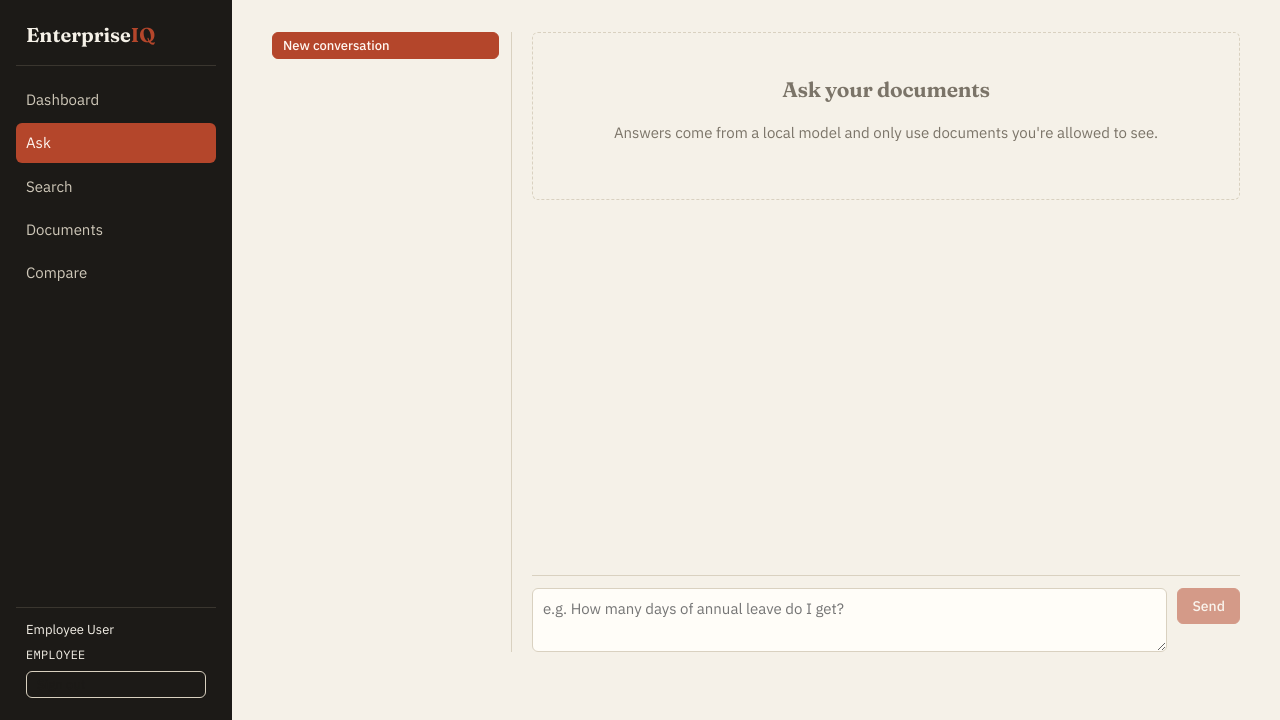
Test case: chat UI › sends a question and renders the cited answer with its sources
Type "How much leave do I get?" into the text box named "Your question". click: coordinates (850, 620)
box: [532, 588, 1167, 652]
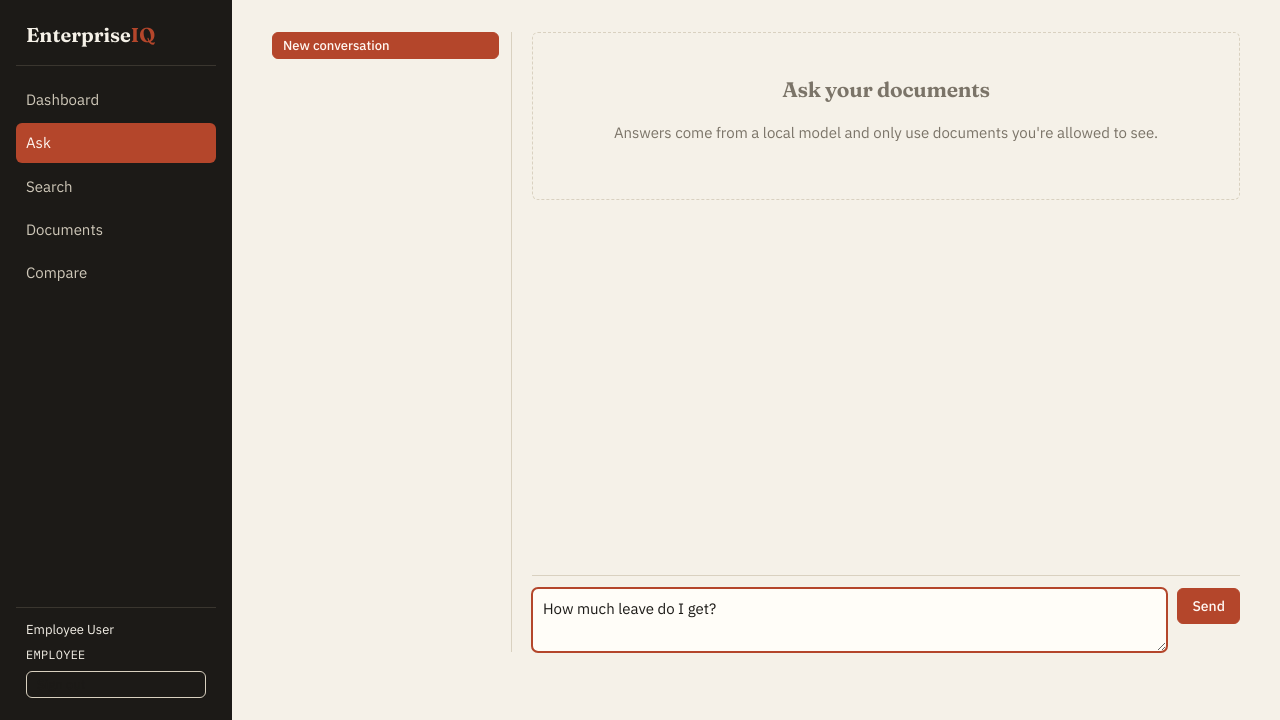
Click the button "Send". click: coordinates (1209, 606)
box: [1177, 588, 1240, 624]
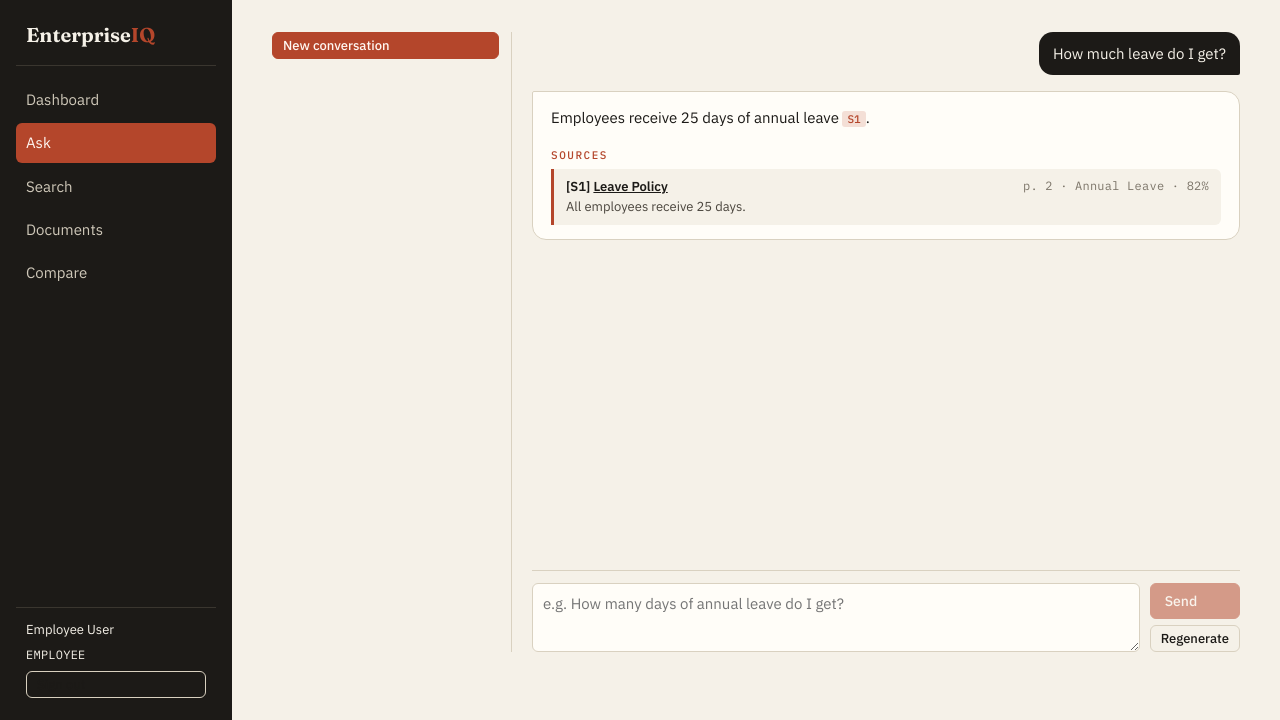
Expected: the text "Employees receive 25 days of annual leave S1 ." is shown, [551, 108, 870, 127]
Expected: the button "S1" is shown, [842, 111, 866, 127]
Expected: the text "p. 2 · Annual Leave · 82%" is shown, [1023, 177, 1209, 196]
